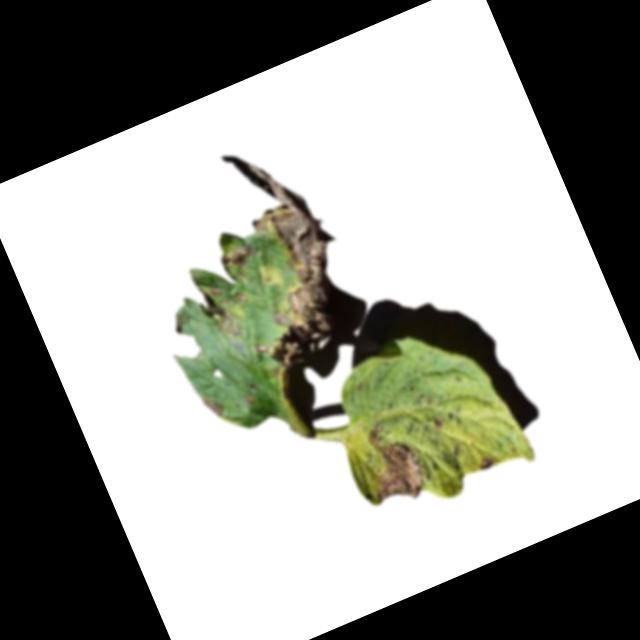Early_blight: (188, 130, 360, 365), (350, 411, 431, 512), (191, 273, 256, 345), (199, 387, 230, 424), (476, 451, 500, 473)
